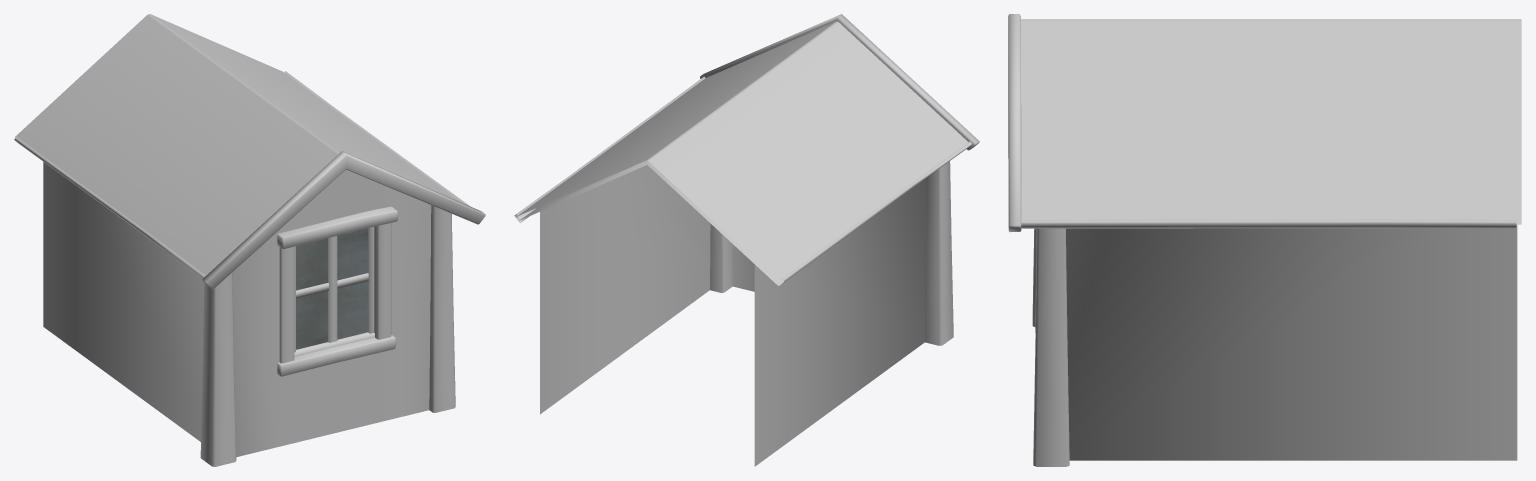
File: Window_1.FBX
The picture shows the model from 3 angles, left to right: view 1: azimuth 30°, elevation 25°; view 2: azimuth 150°, elevation 25°; view 3: azimuth 270°, elevation 25°; orthographic projection. The views are drawn at different scales.
Parts seen in each view (by area): view 1: Mesh; view 2: Mesh; view 3: Mesh.
Part boxes in pixels (left/top/right/bottom): Mesh: left=14, top=14, right=485, bottom=466; Mesh: left=514, top=14, right=979, bottom=466; Mesh: left=1008, top=14, right=1521, bottom=466.
Size of the model in its own units: 255 by 313 by 253.
